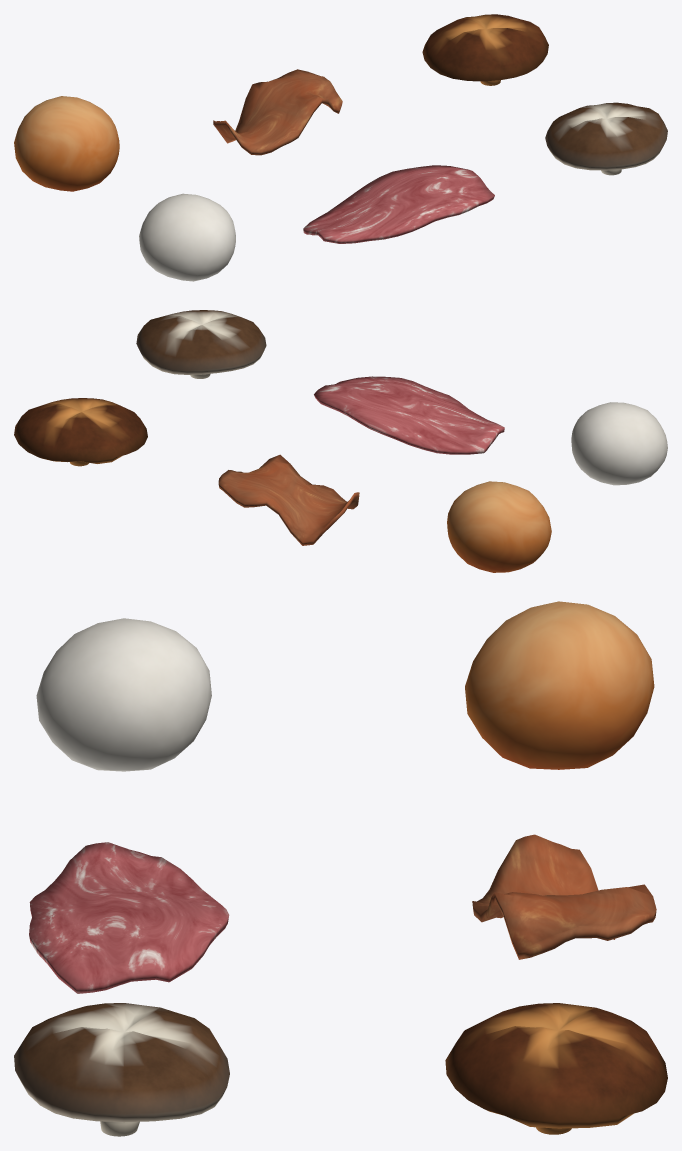
Rendered from Phase0_Ingredients.glb.
3 views of the same model, one above another, from view 1: azimuth 30°, elevation 25°; view 2: azimuth 150°, elevation 25°; view 3: azimuth 270°, elevation 25° (orthographic). The views are drawn at different scales.
Parts seen in each view (by area): view 1: PorkSlice_Raw, FishBall_Cooked, Shiitake_Cooked, Shiitake_Raw, FishBall_Raw, PorkSlice_Cooked; view 2: PorkSlice_Raw, FishBall_Cooked, Shiitake_Cooked, Shiitake_Raw, FishBall_Raw, PorkSlice_Cooked; view 3: FishBall_Cooked, Shiitake_Cooked, Shiitake_Raw, PorkSlice_Raw, FishBall_Raw, PorkSlice_Cooked.
Boxes of the visible parts, <box> form: PorkSlice_Raw: <box>303,165,494,243</box>; FishBall_Cooked: <box>14,96,119,191</box>; Shiitake_Cooked: <box>422,14,548,85</box>; Shiitake_Raw: <box>545,102,667,175</box>; FishBall_Raw: <box>139,193,235,281</box>; PorkSlice_Cooked: <box>213,69,342,155</box>; PorkSlice_Raw: <box>314,376,504,454</box>; FishBall_Cooked: <box>447,481,551,572</box>; Shiitake_Cooked: <box>14,398,147,466</box>; Shiitake_Raw: <box>136,310,266,378</box>; FishBall_Raw: <box>571,402,667,485</box>; PorkSlice_Cooked: <box>218,454,359,545</box>; FishBall_Cooked: <box>465,601,654,769</box>; Shiitake_Cooked: <box>445,1003,667,1134</box>; Shiitake_Raw: <box>14,1003,229,1136</box>; PorkSlice_Raw: <box>29,842,229,993</box>; FishBall_Raw: <box>36,618,211,771</box>; PorkSlice_Cooked: <box>472,834,656,959</box>.
Bounding box in the file's own units: 0.2758 × 0.0469 × 0.1655.
Materials: 6 (6 with a texture image).
